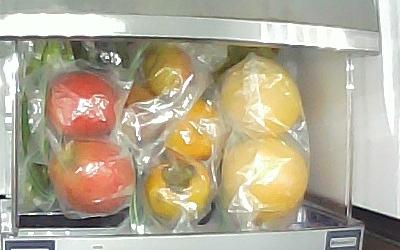apple_vinyl: (52, 138, 136, 215), (46, 71, 119, 139)
grapefruit_vinyl: (219, 57, 303, 138), (225, 138, 308, 219)
persimmon_vinyl: (144, 159, 212, 219), (163, 102, 219, 160)
prune_vinyl: (142, 44, 195, 97), (119, 88, 163, 143)
